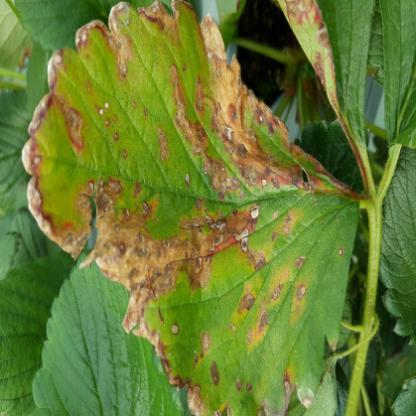Strawberry_Angular_LeafSpot: (20, 0, 368, 415), (278, 0, 378, 192)
